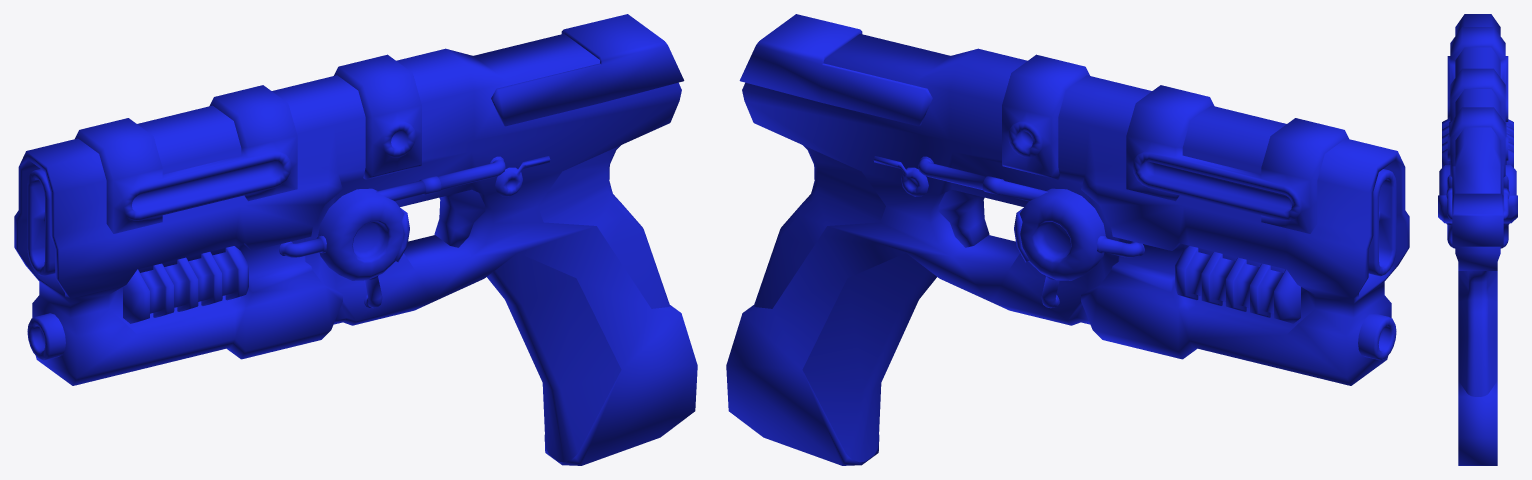
The model's file is pistol.fbx.
The picture shows the model from 3 angles, left to right: view 1: azimuth 30°, elevation 25°; view 2: azimuth 150°, elevation 25°; view 3: azimuth 270°, elevation 25°; orthographic projection. The views are drawn at different scales.
Parts seen in each view (by area): view 1: 1_low; view 2: 1_low; view 3: 1_low.
Part boxes in pixels (x1=…): 1_low: x1=14, y1=14, x2=697, y2=465; 1_low: x1=726, y1=14, x2=1409, y2=465; 1_low: x1=1438, y1=14, x2=1517, y2=465.
Bounding box in the file's own units: 290 × 186 × 49.04.
